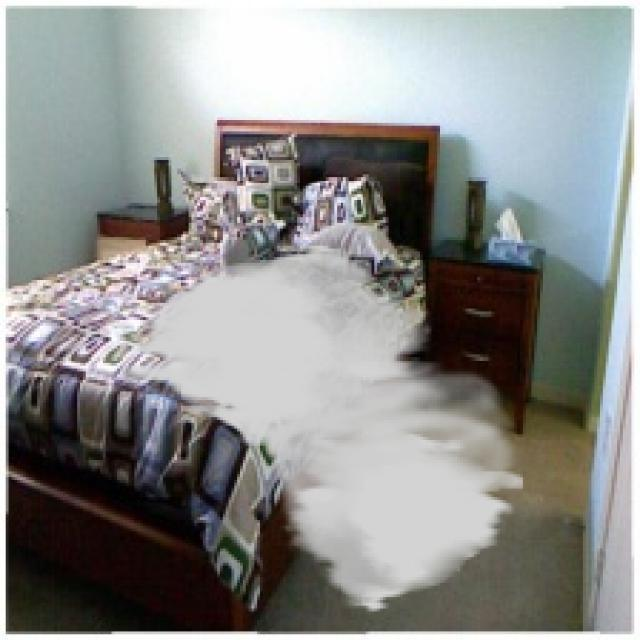Smoke: (120, 242, 526, 614)
